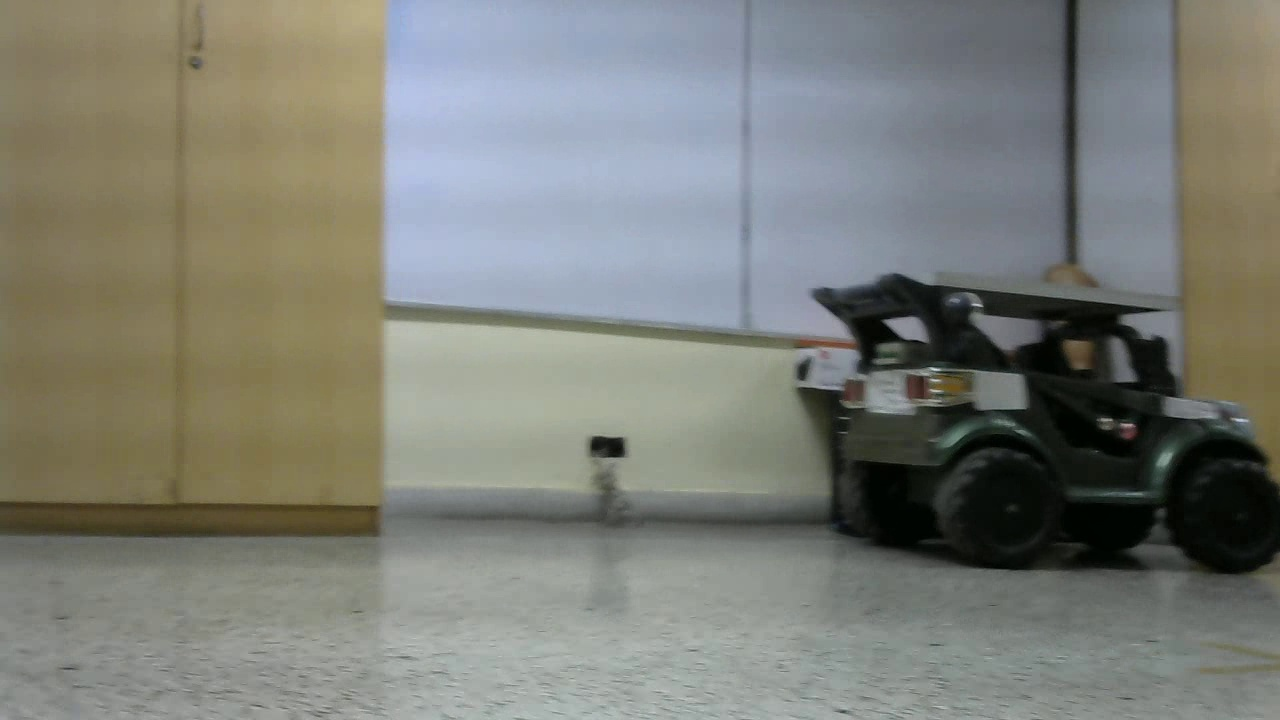chair: (1076, 5, 1280, 668)
